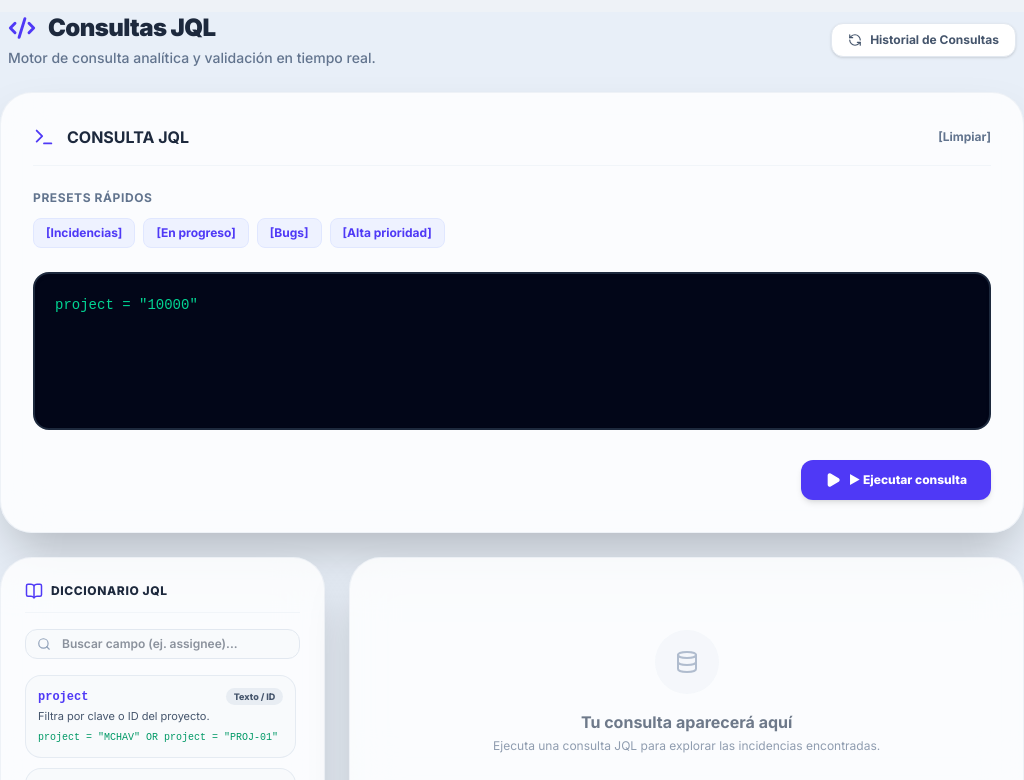
JqlConsultasView › handles network error during execution
This screenshot has width=1024, height=780.
Click the button "▶ Ejecutar consulta" at {"x": 896, "y": 480}, box [801,460,991,500]
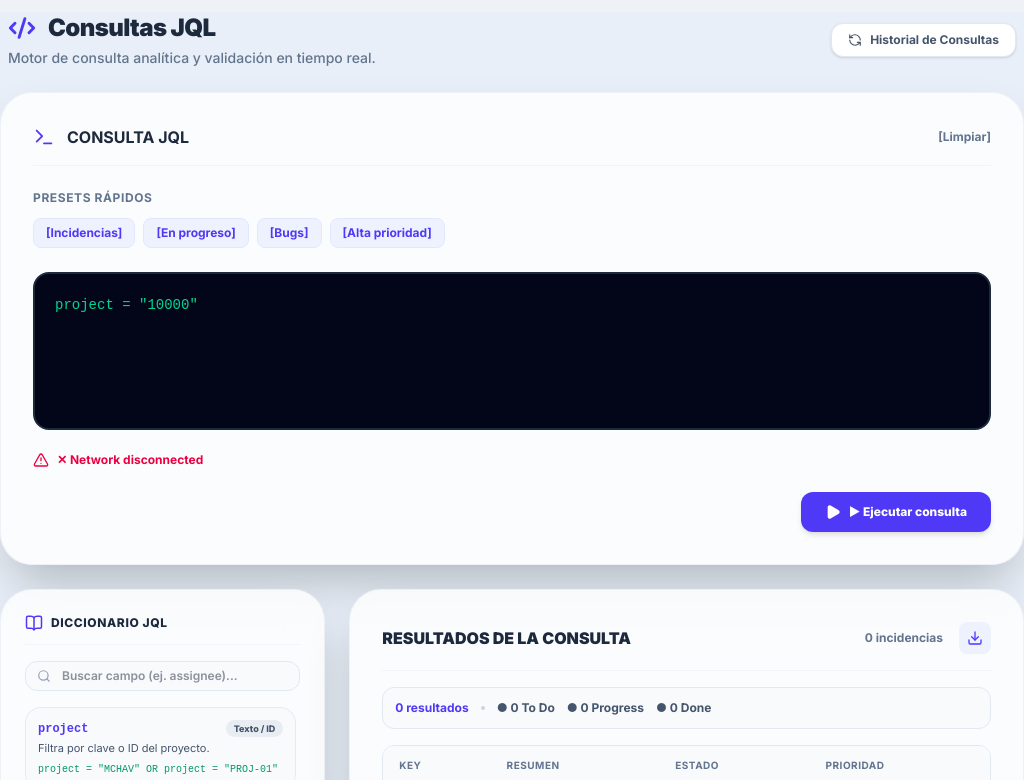
Now the text "✕ Network disconnected" is shown, box [33,452,203,468]
